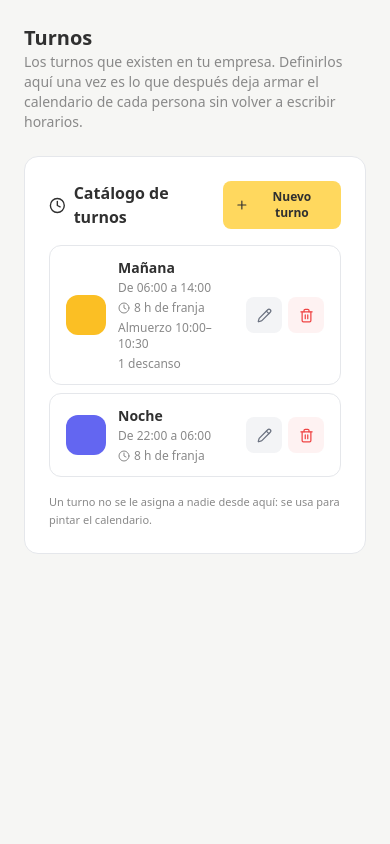
crear un turno › si el servidor rechaza, muestra su motivo
Click the button "Nuevo turno".
click(282, 205)  # box [223,181,341,229]
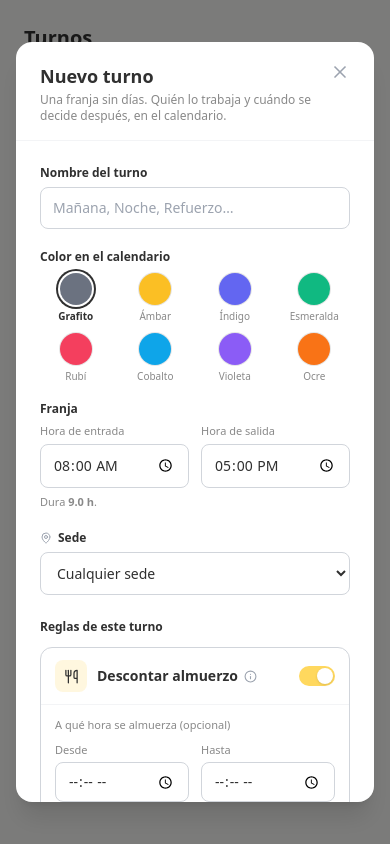
Type "Raro" into the field labelled "Nombre del turno".
click(195, 208); type("Raro")  # box [40,187,350,229]
(page scrolled)
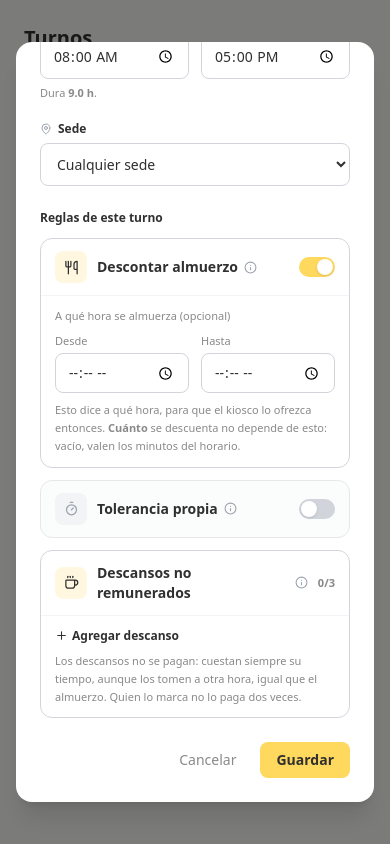
Click the button "Guardar".
click(305, 760)  # box [260,742,350,778]
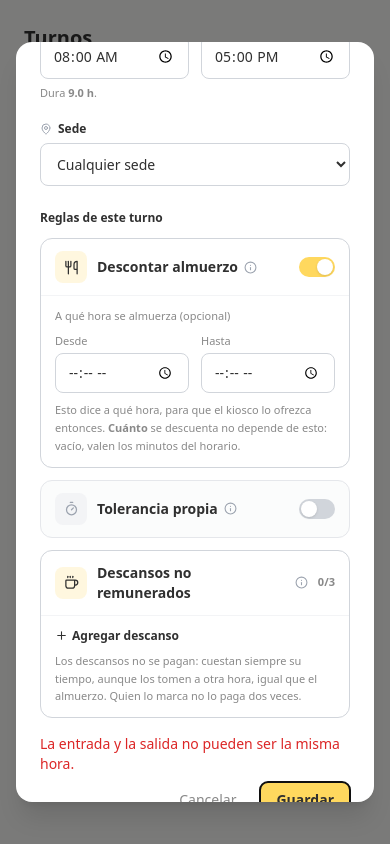
expect the text "La entrada y la salida no pueden ser la misma hora." is shown: met, box [40,734,340,774]
